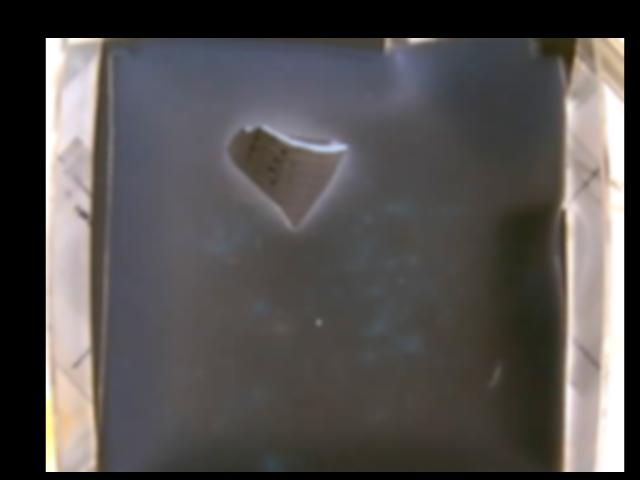China: (229, 123, 349, 228)
